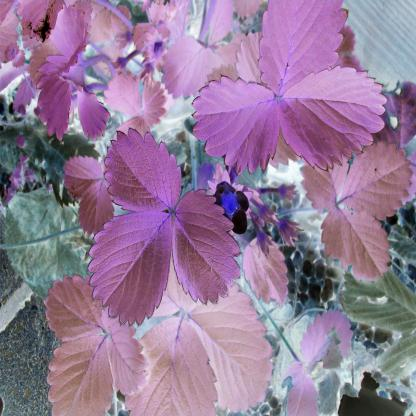strawberry leaf: (276, 65, 389, 172), (83, 205, 176, 331), (186, 280, 274, 411), (187, 78, 283, 177), (127, 317, 218, 416), (172, 189, 244, 314), (258, 0, 348, 91), (103, 127, 179, 213), (44, 332, 114, 416), (318, 204, 390, 284), (342, 138, 413, 219), (97, 316, 156, 394), (43, 270, 105, 340), (296, 157, 350, 213)
